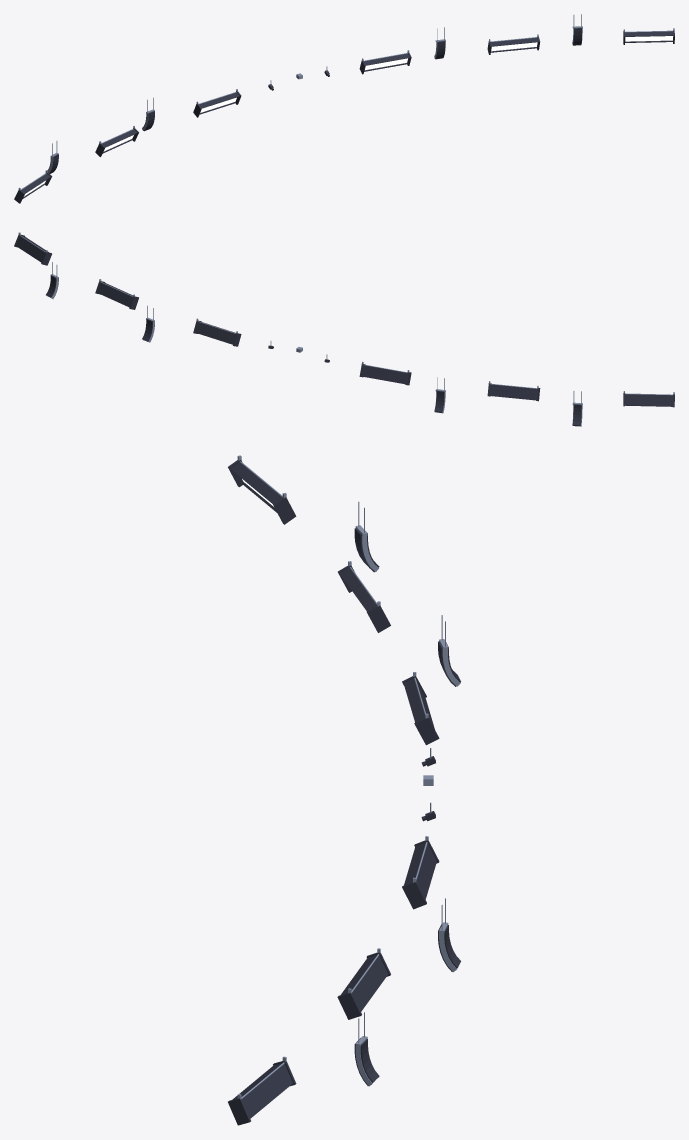
The model's file is roof_floodlights_south.glb.
The picture shows the model from 3 angles, top to bottom: view 1: azimuth 30°, elevation 25°; view 2: azimuth 150°, elevation 25°; view 3: azimuth 270°, elevation 25°; orthographic projection. The views are drawn at different scales.
Visible parts, largest first — view 1: roof_floodlights_south; view 2: roof_floodlights_south; view 3: roof_floodlights_south.
Boxes of the visible parts, x1=… form: roof_floodlights_south: x1=14, y1=14, x2=674, y2=203; roof_floodlights_south: x1=14, y1=232, x2=674, y2=426; roof_floodlights_south: x1=228, y1=455, x2=460, y2=1125.
Size of the model in its own units: 147 by 7.06 by 22.57.
